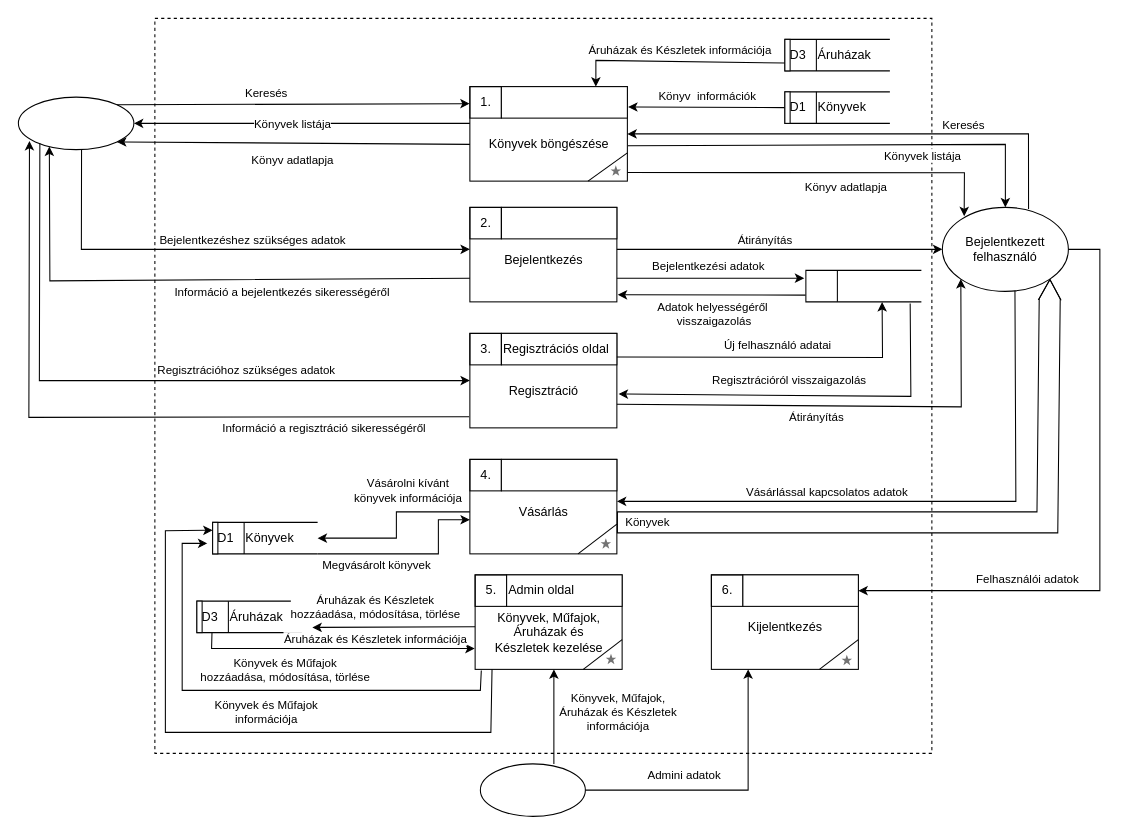
Some shapes in this 1127 by 835 pixel diagram are drawn without their labels. Each missing label, with the centre of its shape:
Admin: (x=532, y=789)
Bejelentkezési oldal: (x=558, y=222)
Böngésző: (x=563, y=102)
D2 Felhasználók: (x=863, y=285)
Kijelentkezés oldal: (x=800, y=590)
Kosár oldal: (x=558, y=474)
Látogató: (x=75, y=123)
